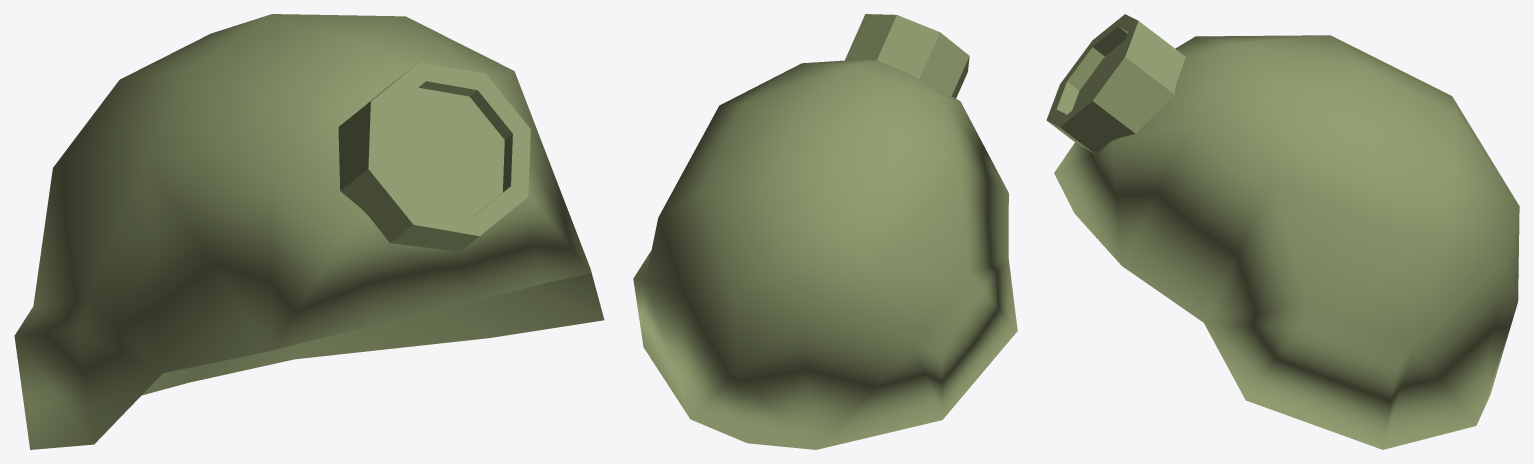
The model's file is Speedy_Soldier_Helmet_Type_3.fbx.
The picture shows the model from 3 angles, left to right: view 1: azimuth 30°, elevation 25°; view 2: azimuth 150°, elevation 25°; view 3: azimuth 270°, elevation 25°; orthographic projection. The views are drawn at different scales.
Visible parts, largest first — view 1: Speedy_Soldier_Helmet_Type_3; view 2: Speedy_Soldier_Helmet_Type_3; view 3: Speedy_Soldier_Helmet_Type_3.
Part boxes in pixels (bbox=[...]): Speedy_Soldier_Helmet_Type_3: bbox=[14, 14, 604, 449]; Speedy_Soldier_Helmet_Type_3: bbox=[633, 14, 1017, 449]; Speedy_Soldier_Helmet_Type_3: bbox=[1046, 14, 1519, 449].
Bounding box in the file's own units: 28.05 × 25.69 × 29.45.
